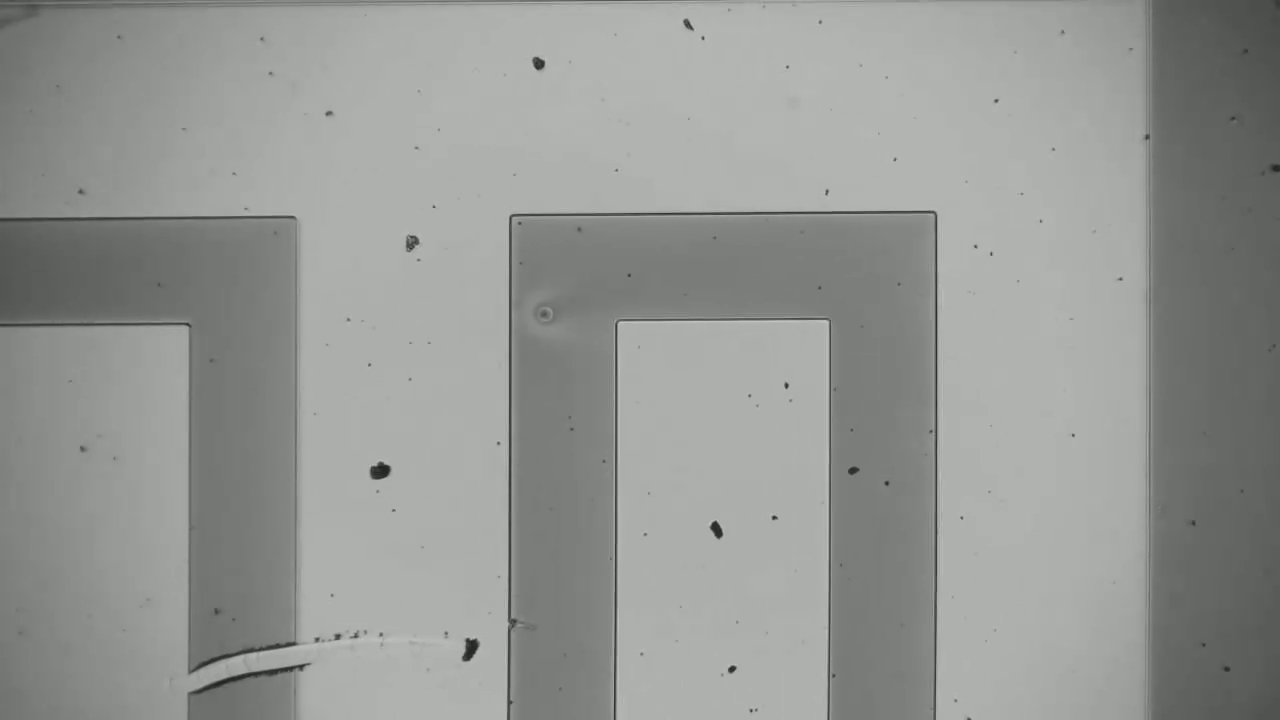Short_circuit: (153, 627, 341, 707)
